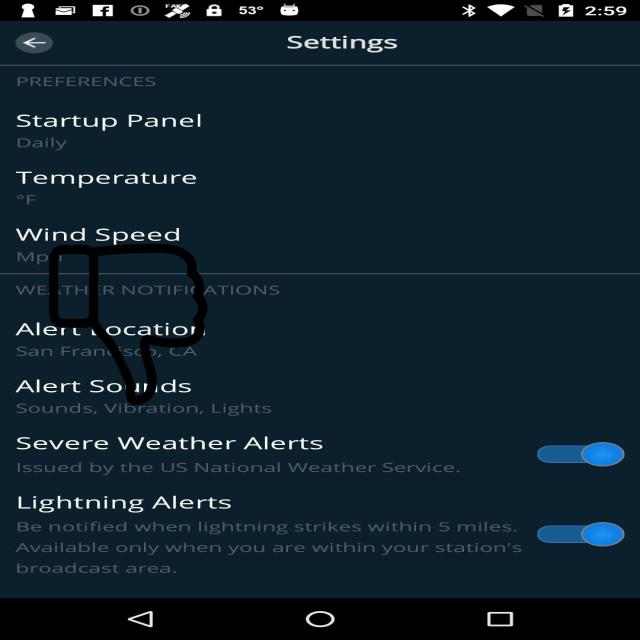obstruction: (47, 244, 210, 405)
